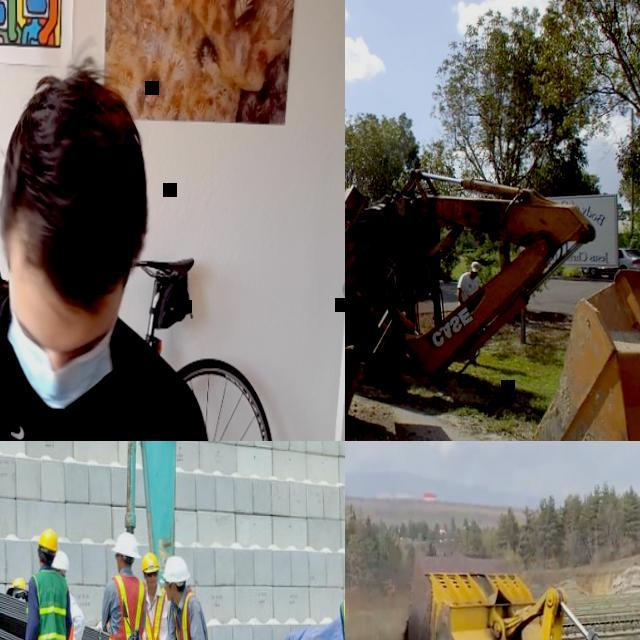helmet: (162, 556, 188, 582), (113, 532, 139, 558), (140, 552, 158, 574), (38, 529, 56, 550), (51, 552, 67, 572), (6, 577, 26, 593)
vest: (104, 573, 145, 640), (31, 568, 67, 640), (171, 587, 214, 640), (140, 583, 169, 640), (2, 598, 27, 640), (61, 622, 80, 640)
